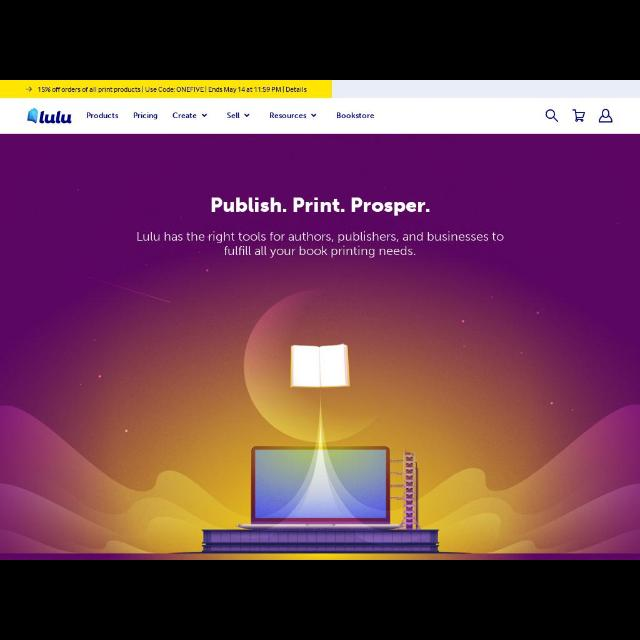backgroundimage: (1, 135, 639, 560)
icon: (572, 108, 586, 122), (599, 110, 613, 124), (544, 110, 558, 122), (26, 86, 32, 94), (243, 112, 250, 118), (311, 113, 319, 117), (202, 114, 208, 118)
image: (28, 109, 72, 125)
spinner: (268, 112, 318, 120), (171, 110, 209, 120), (225, 111, 251, 119)
text: (136, 229, 504, 259), (212, 196, 430, 214), (38, 85, 308, 95), (336, 111, 374, 121), (270, 112, 306, 120), (86, 111, 118, 119), (133, 112, 159, 120), (173, 112, 197, 118), (227, 110, 241, 120)
toolbar: (1, 98, 639, 132)
